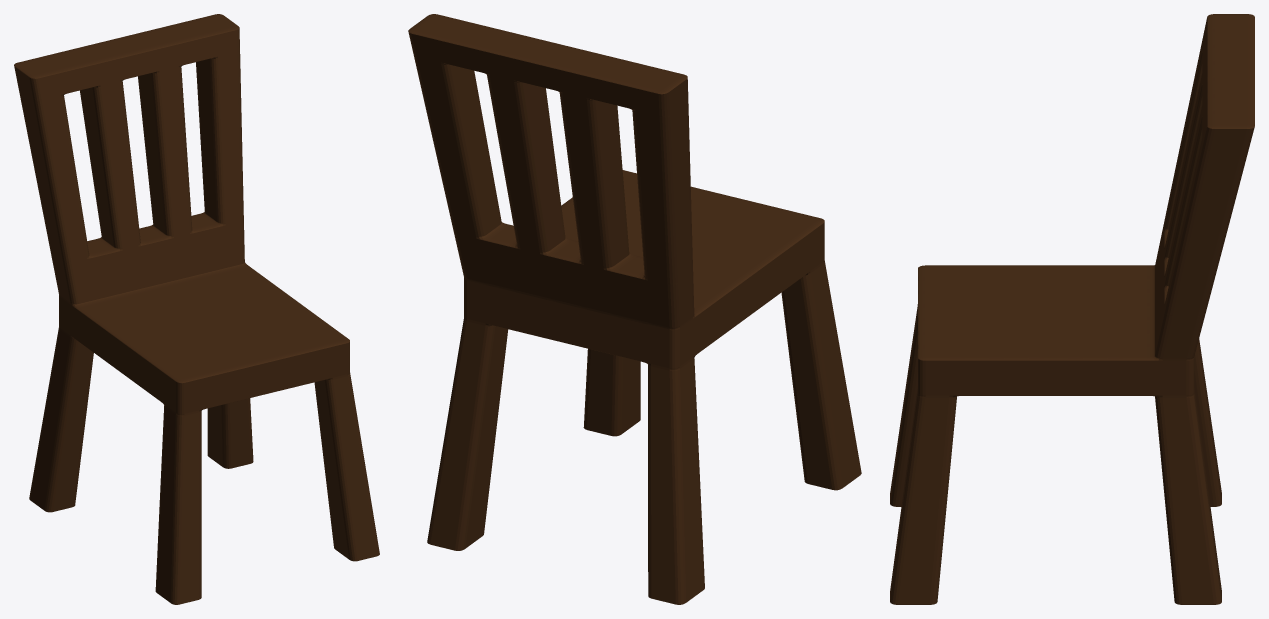
The model's file is wooden chair.fbx.
3 views of the same model, side by side, from view 1: azimuth 30°, elevation 25°; view 2: azimuth 150°, elevation 25°; view 3: azimuth 270°, elevation 25° (orthographic). The views are drawn at different scales.
Parts seen in each view (by area): view 1: Cube; view 2: Cube; view 3: Cube.
Boxes of the visible parts, x1,y1,x2,y2 form: Cube: (14, 14, 379, 604); Cube: (408, 14, 861, 604); Cube: (890, 14, 1254, 604).
Bounding box in the file's own units: 53.13 × 103 × 71.29.
